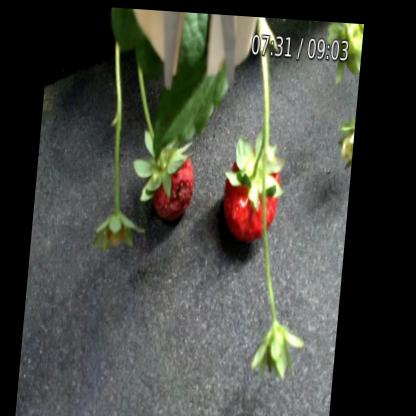ripe: (223, 149, 294, 245), (138, 145, 202, 232)
unripe: (340, 116, 358, 163), (107, 212, 130, 246)
